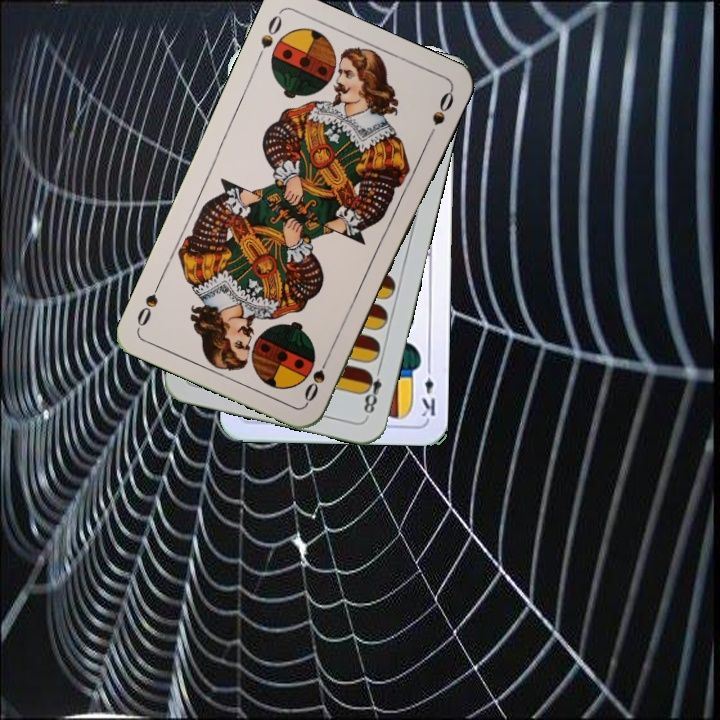E8: (358, 361, 384, 420)
EK: (418, 360, 438, 419)
SO: (251, 10, 285, 65), (300, 349, 333, 405)
